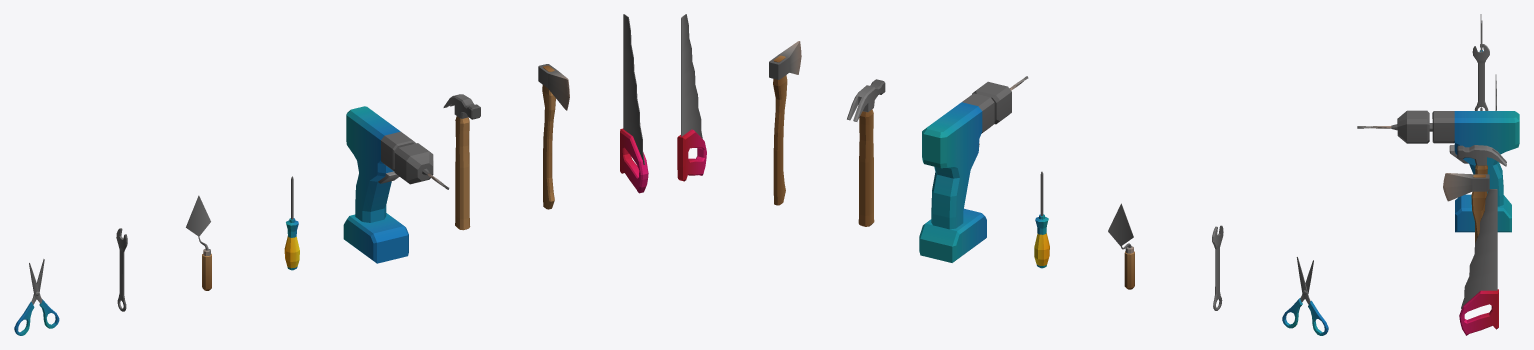
Rendered from LowPolyTools.fbx.
3 renders of one model, left to right at view 1: azimuth 30°, elevation 25°; view 2: azimuth 150°, elevation 25°; view 3: azimuth 270°, elevation 25°, orthographic. The views are drawn at different scales.
Visible parts, largest first — view 1: Drill, Handle.004, Blade, Handle, Handle.005, Blade.001, Handle.003, Hammer_Head, Wrench.001, Trowel; view 2: Drill, Handle.004, Blade, Handle, Handle.005, Blade.001, Hammer_Head, Handle.003, Trowel, Wrench.001; view 3: Drill, Blade, Handle.005, Blade.001, Hammer_Head, Wrench.001, Handle, Handle.004.
Boxes of the visible parts, box(x1,y1,x2,y2) form: Drill: box(343, 106, 449, 263); Handle.004: box(455, 116, 470, 230); Blade: box(623, 14, 644, 164); Handle: box(542, 65, 555, 209); Handle.005: box(620, 128, 648, 193); Blade.001: box(538, 64, 569, 110); Handle.003: box(284, 218, 299, 270); Hammer_Head: box(443, 94, 480, 119); Wrench.001: box(116, 228, 127, 311); Trowel: box(186, 195, 210, 236); Drill: box(919, 76, 1028, 262); Handle.004: box(858, 109, 874, 226); Blade: box(681, 14, 702, 138); Handle: box(773, 55, 787, 205); Handle.005: box(677, 129, 706, 181); Blade.001: box(769, 41, 801, 79); Hammer_Head: box(847, 79, 885, 121); Handle.003: box(1034, 214, 1049, 268); Trowel: box(1108, 203, 1133, 246); Wrench.001: box(1212, 225, 1223, 310); Drill: box(1357, 110, 1519, 232); Blade: box(1461, 189, 1497, 308); Handle.005: box(1459, 289, 1498, 335); Blade.001: box(1443, 173, 1489, 201); Hammer_Head: box(1457, 145, 1506, 166); Wrench.001: box(1472, 44, 1489, 110); Handle: box(1471, 174, 1486, 238); Handle.004: box(1475, 165, 1487, 242).
Size of the model in its own units: 183 by 46.58 by 47.04.
